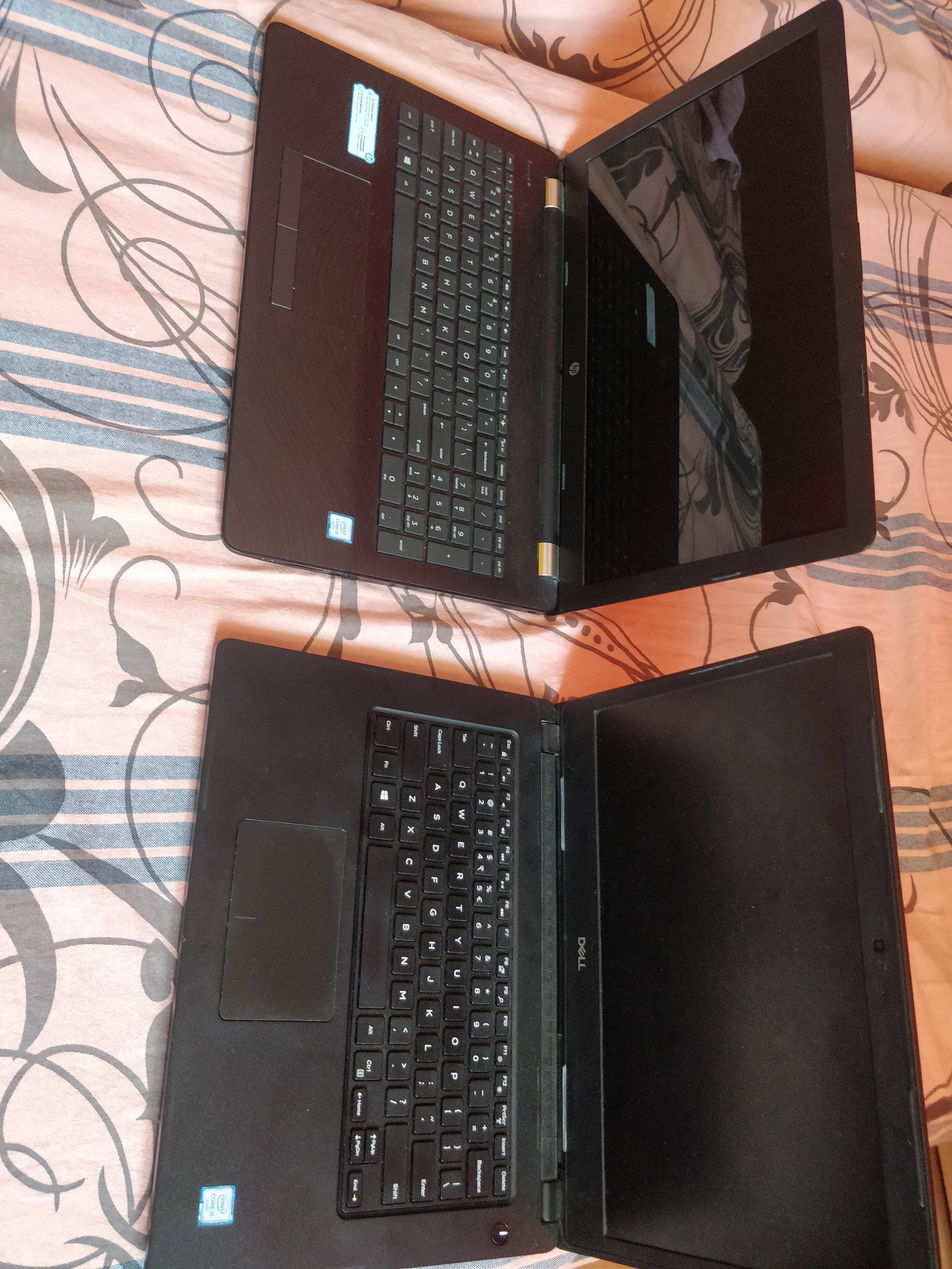Electronics: (113, 619, 952, 1264), (191, 0, 910, 615)
